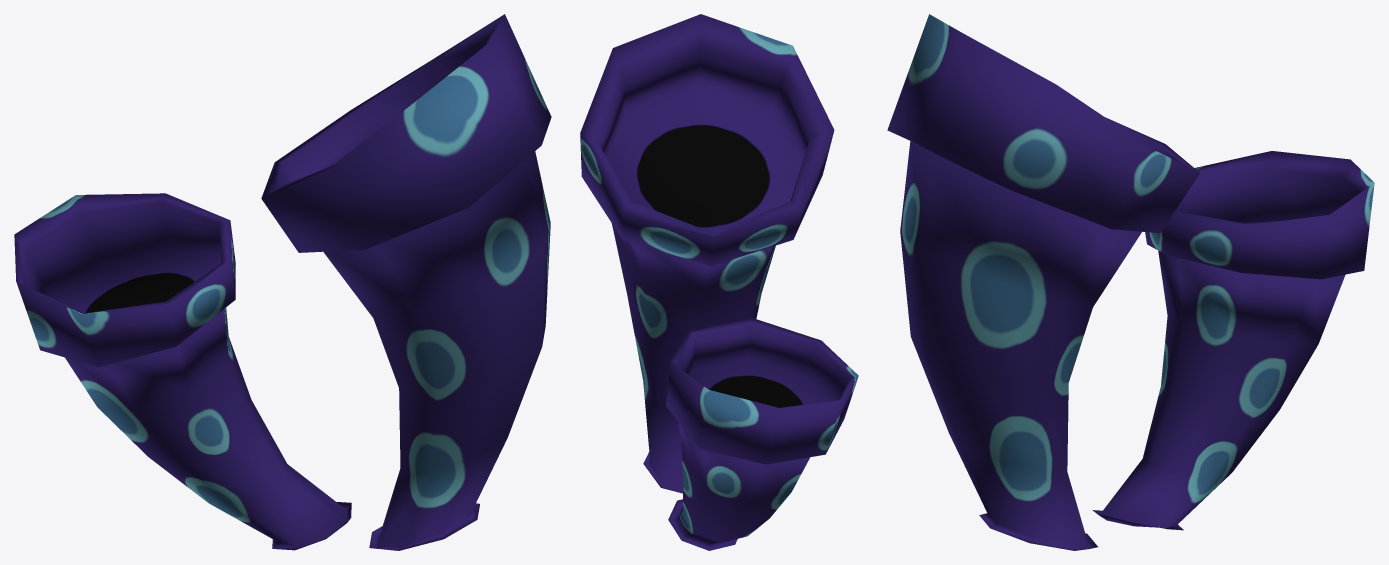
File: object_71.006_lev3.glb
3 renders of one model, left to right at view 1: azimuth 30°, elevation 25°; view 2: azimuth 150°, elevation 25°; view 3: azimuth 270°, elevation 25°, orthographic. The views are drawn at different scales.
Parts seen in each view (by area): view 1: object_71.006_lev3; view 2: object_71.006_lev3; view 3: object_71.006_lev3.
Part boxes in pixels (x1=…): object_71.006_lev3: x1=14, y1=14, x2=551, y2=550; object_71.006_lev3: x1=580, y1=14, x2=858, y2=550; object_71.006_lev3: x1=887, y1=14, x2=1374, y2=550.
Size of the model in its own units: 2.68 by 3.41 by 2.75.
Materials: 1 (1 with a texture image).
